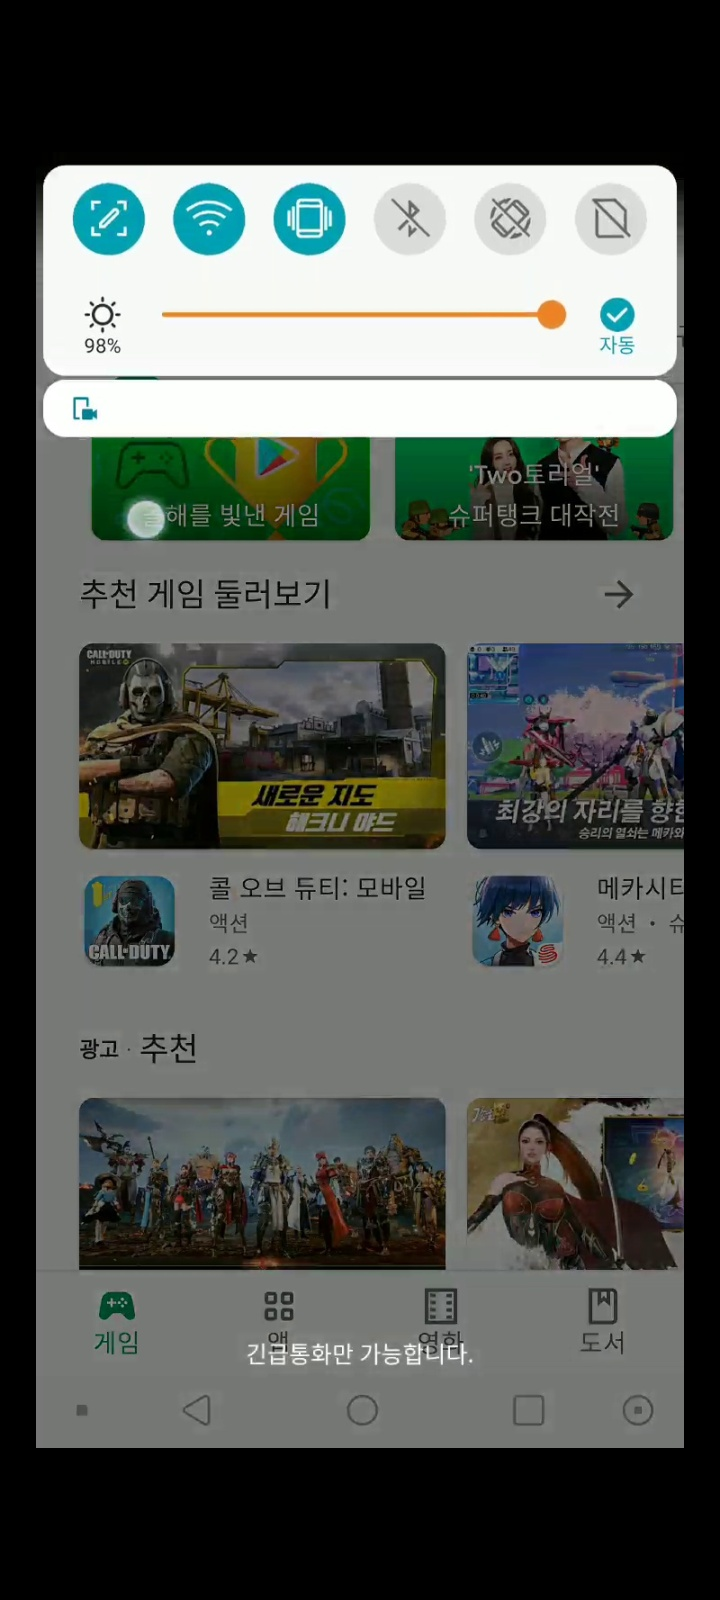Cursor: (125, 497, 170, 542)
